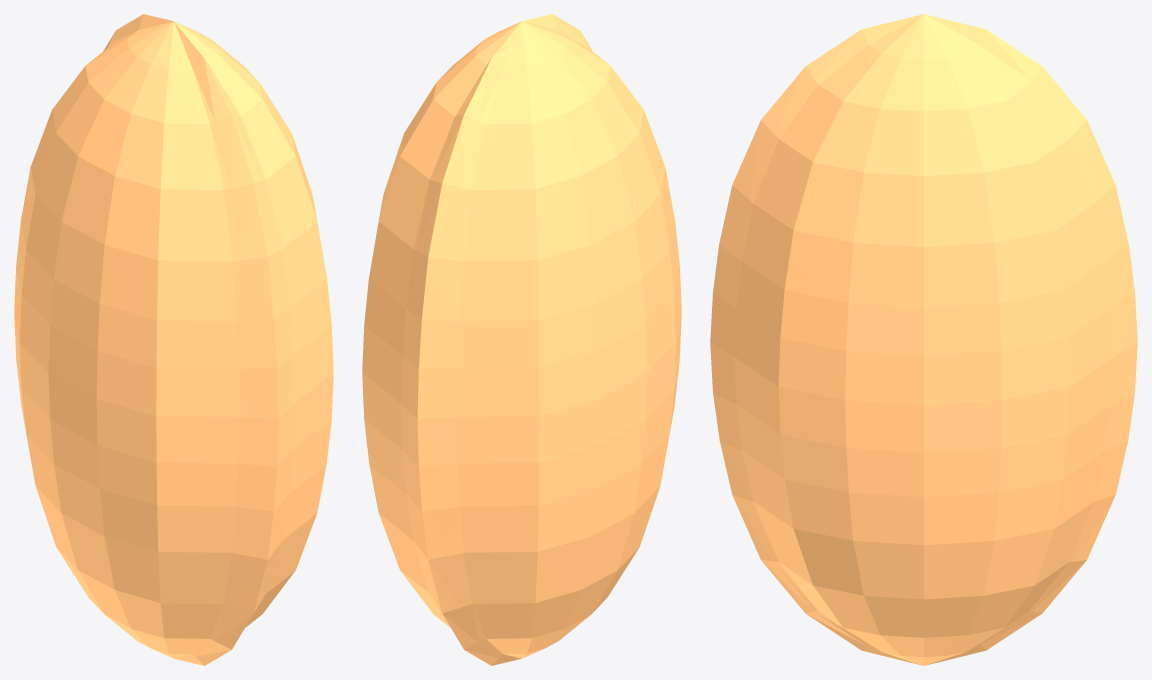
The model's file is Seed.fbx.
3 views of the same model, side by side, from view 1: azimuth 30°, elevation 25°; view 2: azimuth 150°, elevation 25°; view 3: azimuth 270°, elevation 25° (orthographic). The views are drawn at different scales.
Visible parts, largest first — view 1: Seed; view 2: Seed; view 3: Seed.
Boxes of the visible parts, x1=… form: Seed: x1=14, y1=14, x2=333, y2=665; Seed: x1=362, y1=14, x2=681, y2=665; Seed: x1=710, y1=14, x2=1137, y2=665.
Bounding box in the file's own units: 45.8 × 111 × 66.09.
